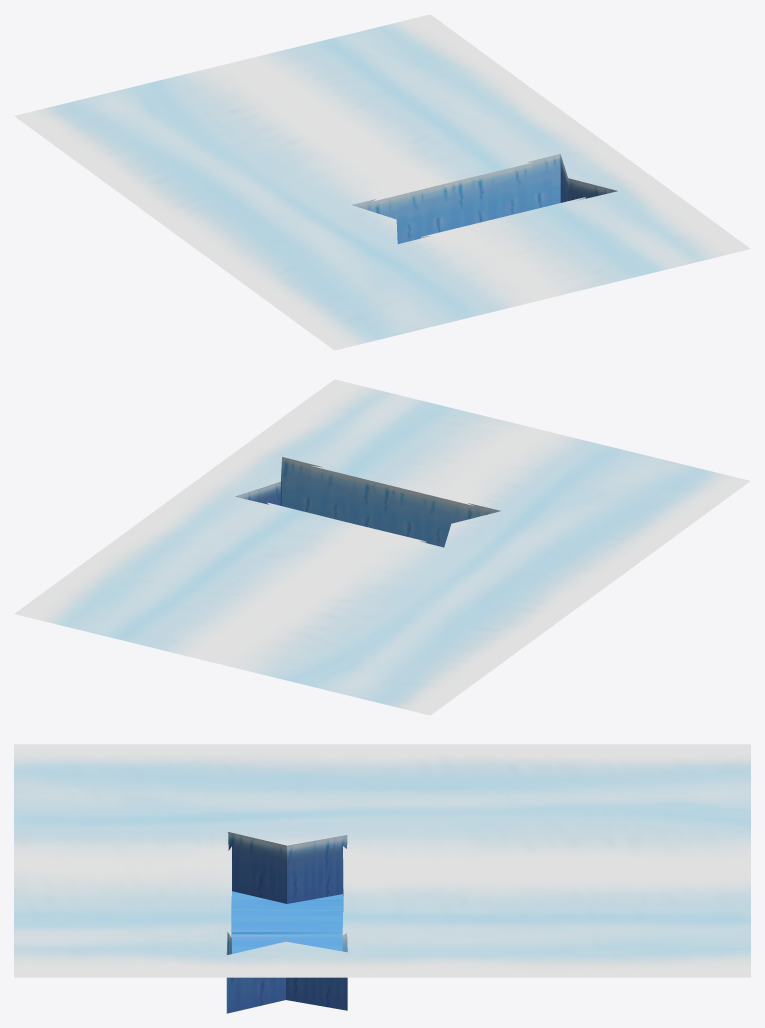
File: Hole_L_Size_08.FBX
3 renders of one model, top to bottom at view 1: azimuth 30°, elevation 25°; view 2: azimuth 150°, elevation 25°; view 3: azimuth 270°, elevation 25°, orthographic. The views are drawn at different scales.
Parts seen in each view (by area): view 1: Object115; view 2: Object115; view 3: Object115.
Boxes of the visible parts, bbox=[...] form: Object115: bbox=[14, 14, 750, 350]; Object115: bbox=[14, 379, 750, 715]; Object115: bbox=[14, 744, 750, 1013].
Bounding box in the file's own units: 600 × 70 × 800.
